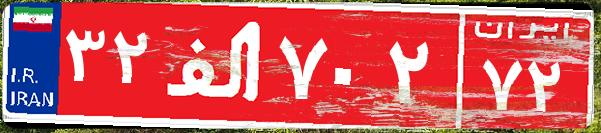0: (330, 28, 385, 110)
2: (385, 28, 445, 110), (110, 28, 158, 105), (525, 38, 570, 115)
3: (57, 26, 110, 107)
7: (273, 28, 330, 110), (475, 38, 525, 113)
الف: (158, 15, 273, 115)
